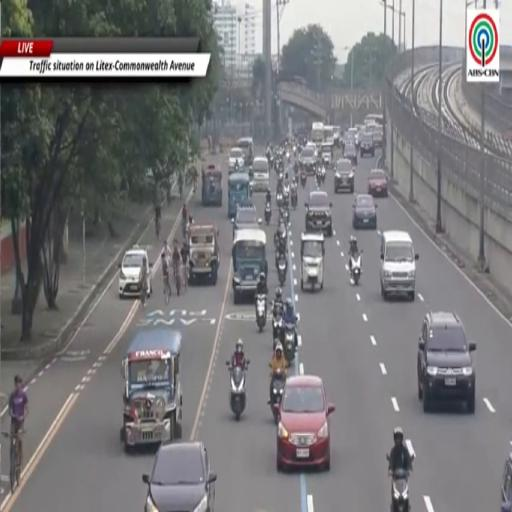bus: (311, 122, 324, 148), (364, 115, 383, 125), (324, 125, 333, 143)
car: (418, 312, 476, 413), (276, 375, 335, 471), (143, 442, 217, 511), (380, 231, 419, 300), (119, 245, 152, 298), (305, 190, 332, 236), (232, 202, 261, 236), (353, 195, 377, 229), (334, 159, 354, 193), (252, 156, 269, 191), (501, 453, 511, 511), (368, 169, 387, 197), (300, 146, 317, 174), (228, 148, 244, 170), (360, 134, 374, 157), (344, 143, 357, 165), (372, 125, 383, 148), (346, 127, 359, 146)
jeepney: (121, 328, 182, 452), (232, 229, 267, 303), (188, 224, 220, 284), (301, 233, 324, 291), (228, 172, 251, 218), (202, 165, 223, 206), (237, 137, 253, 166), (321, 142, 333, 167)
motorcycle: (227, 361, 246, 421), (268, 370, 285, 424), (390, 470, 410, 511), (284, 324, 295, 362), (273, 314, 284, 349), (256, 294, 266, 332), (351, 251, 362, 285), (274, 227, 287, 252), (277, 256, 287, 286), (283, 202, 289, 226), (291, 187, 297, 210), (265, 203, 271, 225), (275, 157, 283, 172), (276, 191, 283, 207), (283, 185, 290, 200), (301, 169, 306, 188), (321, 166, 326, 183), (268, 155, 274, 169), (294, 162, 299, 174), (286, 152, 290, 163), (293, 146, 296, 156)
